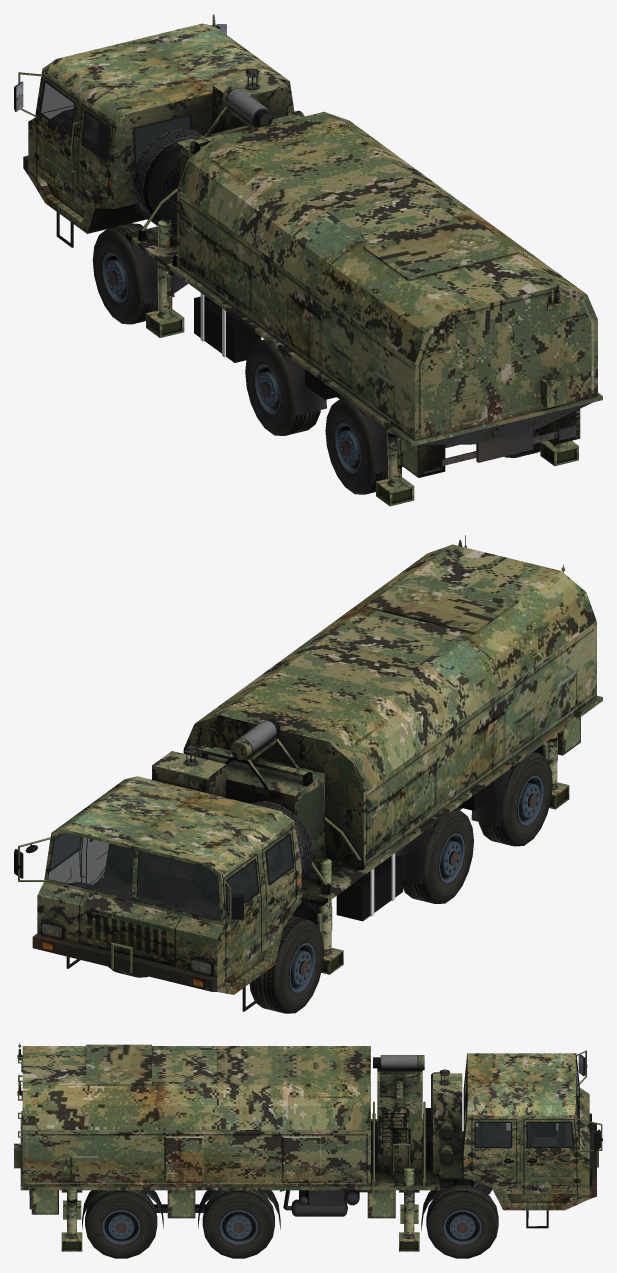
Rendered from ldc.glb.
The picture shows the model from 3 angles, top to bottom: view 1: azimuth 30°, elevation 25°; view 2: azimuth 150°, elevation 25°; view 3: azimuth 270°, elevation 25°; orthographic projection. The views are drawn at different scales.
Parts seen in each view (by area): view 1: Box196, ldcct, object 15, ldccs03, ldccs02, object 40, object 38, FeiJiQianYinChe080, FeiJiQianYinChe081, object 27, FeiJiQianYinChe082, ldccl007 (+6 smaller); view 2: Box196, ldcct, object 15, ldccs02, object 41, ldccs03, object 40, object 38, FeiJiQianYinChe080, FeiJiQianYinChe082, FeiJiQianYinChe081, object 27 (+2 smaller); view 3: Box196, ldcct, ldccs02, object 40, ldccs03, FeiJiQianYinChe079, FeiJiQianYinChe084, FeiJiQianYinChe083, object 15, object 38, Line013, object 41 (+3 smaller).
Part boxes in pixels (x1,y1,x2,y2): Box196: [177, 112, 597, 440]; ldcct: [23, 23, 294, 233]; object 15: [178, 126, 373, 267]; ldccs03: [108, 218, 592, 480]; ldccs02: [126, 72, 602, 446]; object 40: [270, 112, 454, 201]; object 38: [363, 219, 518, 280]; FeiJiQianYinChe080: [92, 223, 158, 324]; FeiJiQianYinChe081: [245, 339, 320, 435]; object 27: [330, 191, 460, 243]; FeiJiQianYinChe082: [325, 398, 388, 494]; ldccl007: [132, 128, 203, 225]; Box196: [183, 544, 596, 866]; ldcct: [32, 776, 301, 994]; object 15: [279, 653, 466, 791]; ldccs02: [152, 695, 602, 905]; object 41: [48, 833, 292, 920]; ldccs03: [292, 717, 580, 975]; object 40: [196, 639, 376, 723]; object 38: [366, 573, 518, 634]; FeiJiQianYinChe080: [249, 915, 324, 1013]; FeiJiQianYinChe082: [478, 751, 552, 846]; FeiJiQianYinChe081: [403, 809, 473, 903]; object 27: [333, 610, 463, 663]; Box196: [22, 1046, 370, 1186]; ldcct: [463, 1053, 596, 1210]; ldccs02: [20, 1055, 462, 1190]; object 40: [217, 1066, 369, 1129]; ldccs03: [29, 1136, 473, 1234]; FeiJiQianYinChe079: [426, 1185, 498, 1258]; FeiJiQianYinChe084: [202, 1190, 274, 1258]; FeiJiQianYinChe083: [85, 1190, 157, 1258]; object 15: [217, 1046, 369, 1065]; object 38: [86, 1044, 151, 1085]; Line013: [18, 1050, 602, 1228]; object 41: [464, 1065, 578, 1146].
Size of the model in its own units: 3.95 by 3.97 by 12.37.
Materials: 14 (13 with a texture image).
